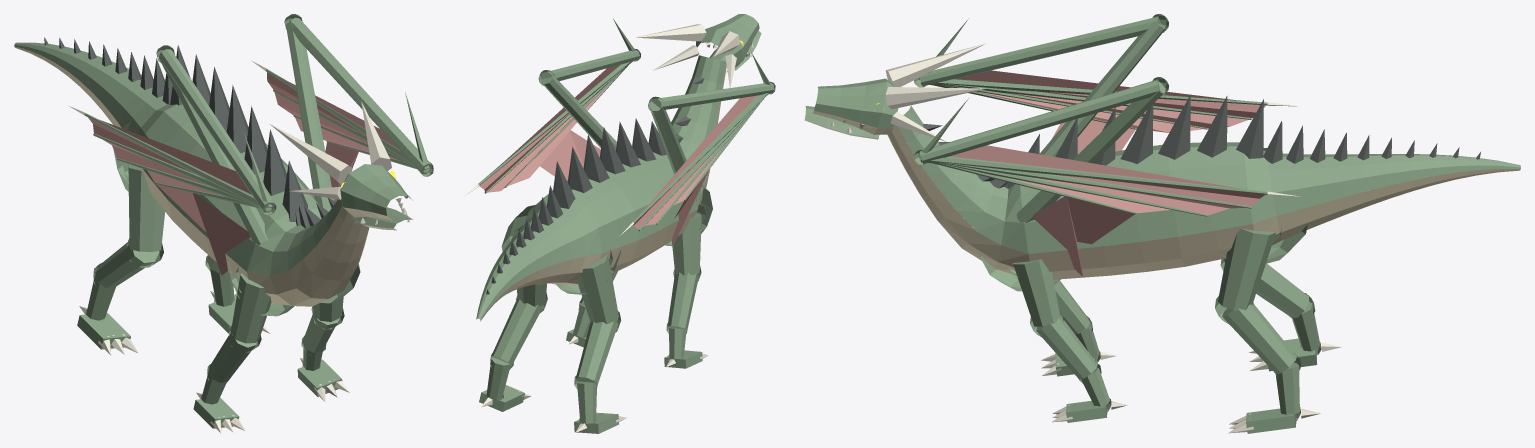
The model's file is dragons-and-wyverns-elder-dragon-standing-42d9af45__36711.glb.
The picture shows the model from 3 angles, left to right: view 1: azimuth 30°, elevation 25°; view 2: azimuth 150°, elevation 25°; view 3: azimuth 270°, elevation 25°; orthographic projection. The views are drawn at different scales.
Visible parts, largest first — view 1: elder-dragon-standing; view 2: elder-dragon-standing; view 3: elder-dragon-standing.
Part boxes in pixels (<box>): elder-dragon-standing: <box>14,14,433,433</box>; elder-dragon-standing: <box>463,14,775,433</box>; elder-dragon-standing: <box>804,14,1520,433</box>.
Size of the model in its own units: 3.03 by 5.51 by 10.09.
